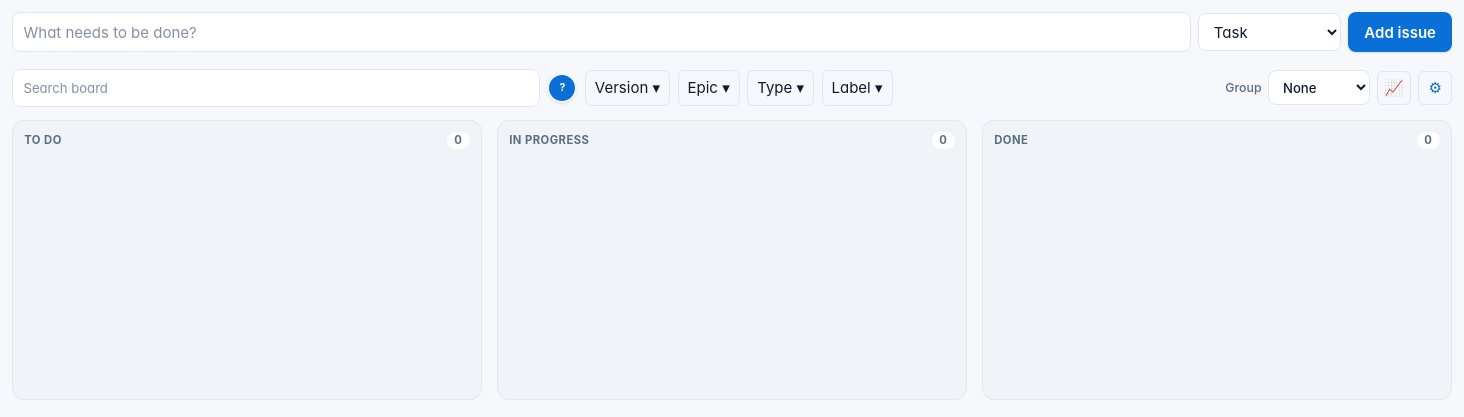
Test case: Board (KYB-S14 AC3) › creates an issue from the quick-add form
The image size is (1464, 417).
Type "Write docs" into the field named "New issue title" at (601, 32), box x1=12 y1=12 x2=1191 y2=52
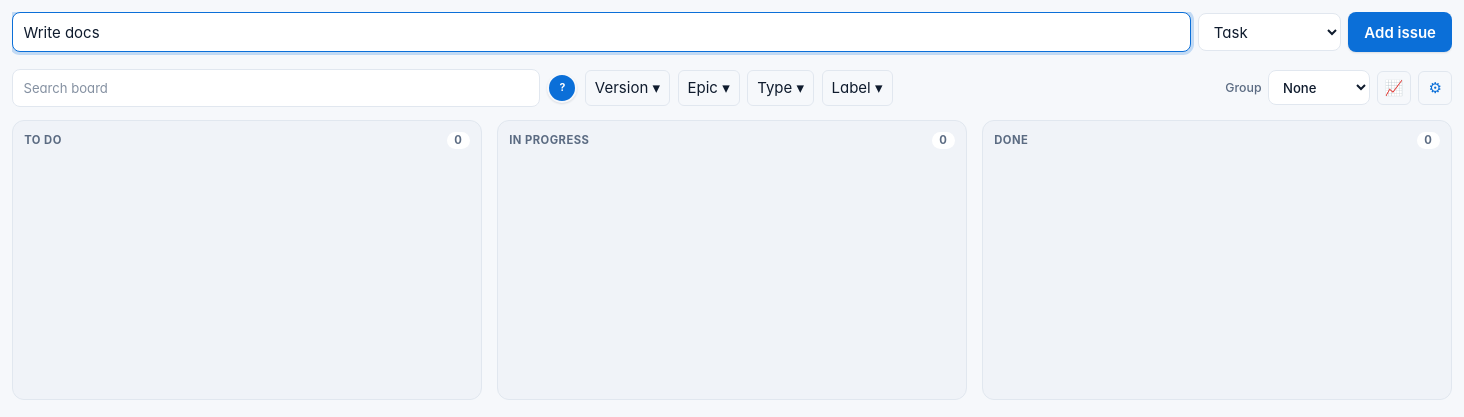
Select "bug" in the dropdown named "Type" at (1270, 32), box x1=1198 y1=13 x2=1341 y2=51
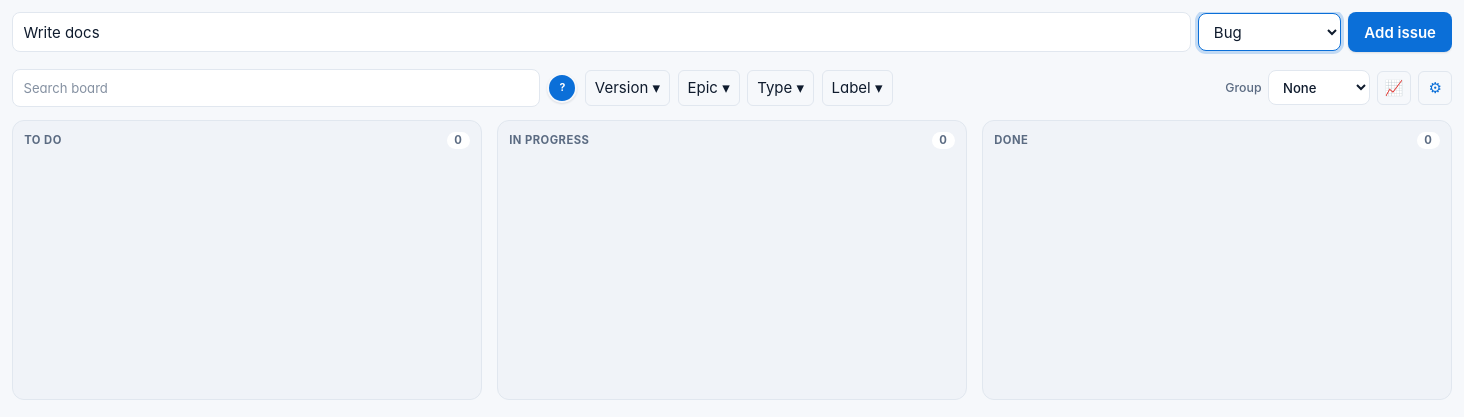
Click the button "Add issue" at (1400, 32), box x1=1348 y1=12 x2=1452 y2=52
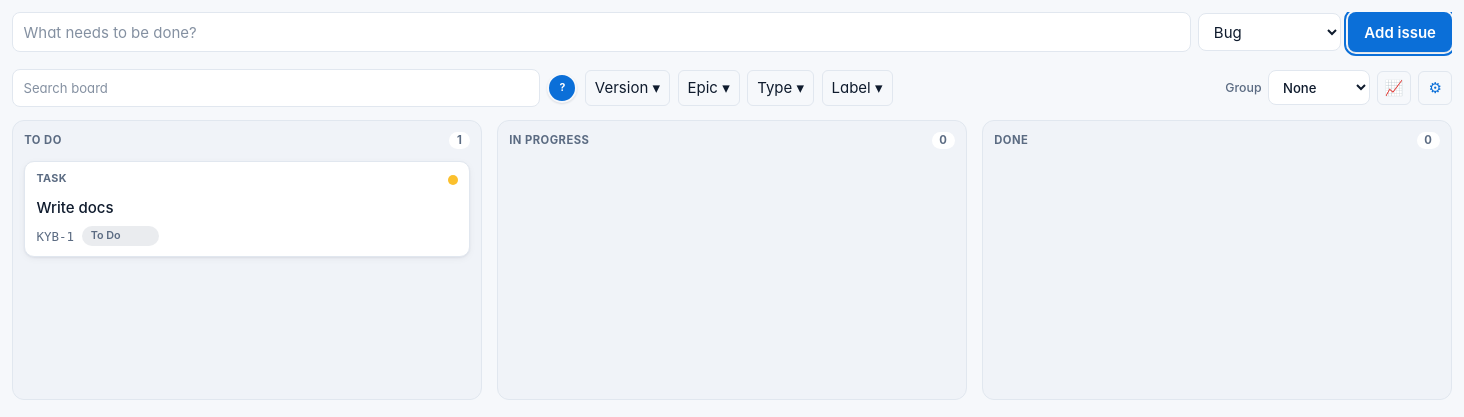
Check: the button "Write docs" is shown, box x1=36 y1=190 x2=458 y2=224
